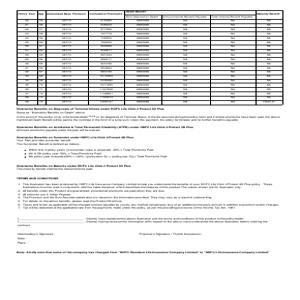table: (16, 9, 284, 104)
text: (16, 182, 279, 210), (16, 105, 281, 123), (14, 134, 168, 160), (16, 214, 270, 227), (16, 124, 195, 134), (16, 249, 271, 256), (15, 164, 133, 171), (138, 229, 203, 238), (17, 230, 55, 245), (16, 176, 62, 181)
